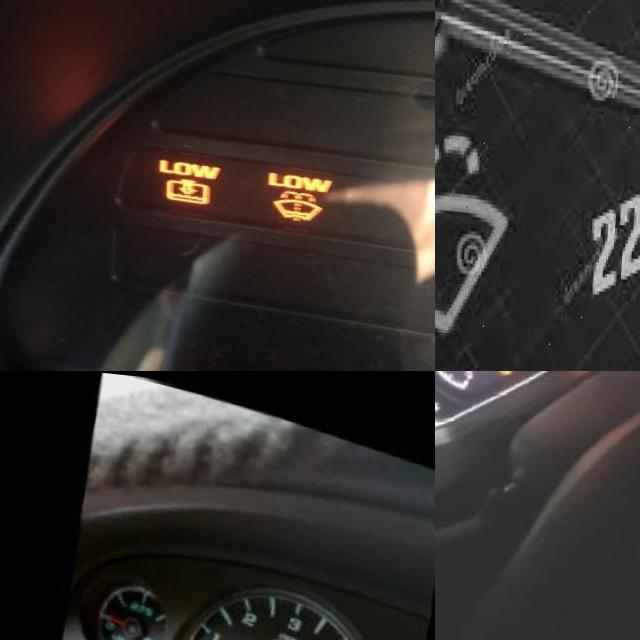Washer Fluid: (435, 118, 522, 363), (267, 176, 334, 220)
